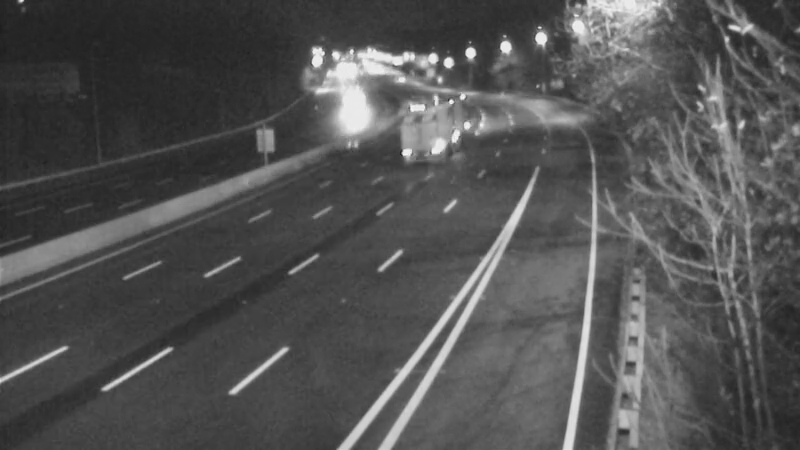vehicle: (376, 56, 426, 106), (409, 69, 459, 119), (402, 106, 452, 156), (327, 75, 377, 125)
